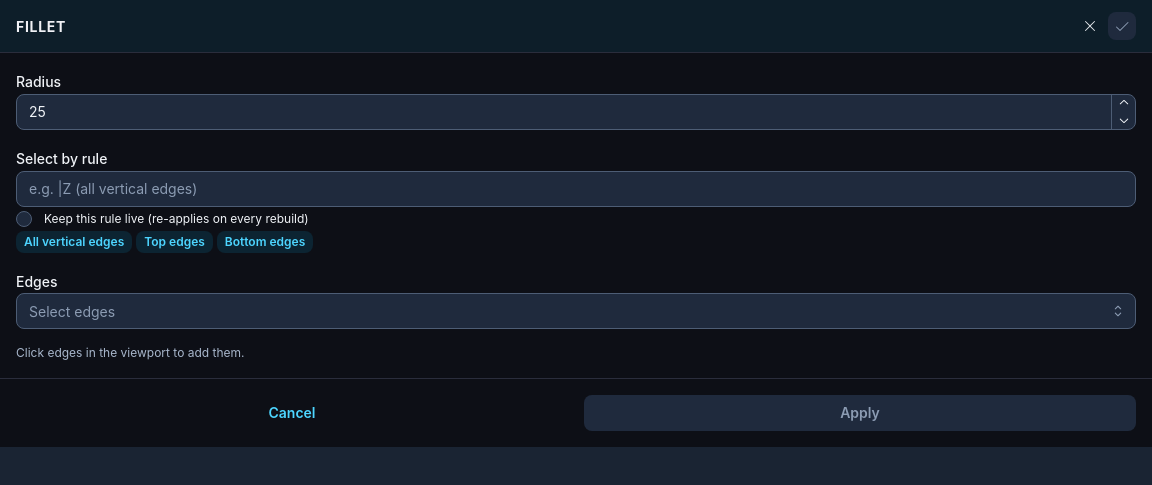
OperationPanel — selector-rule input (ROADMAP §9.1 Phase 3) › resolving a rule fills the edge selection
The width and height of the screenshot is (1152, 485).
Type "|Z" into the field with placeholder "e.g. |Z (all vertical edges)".
click(576, 189); type("|Z")  # box [16, 171, 1136, 207]
Then press Enter
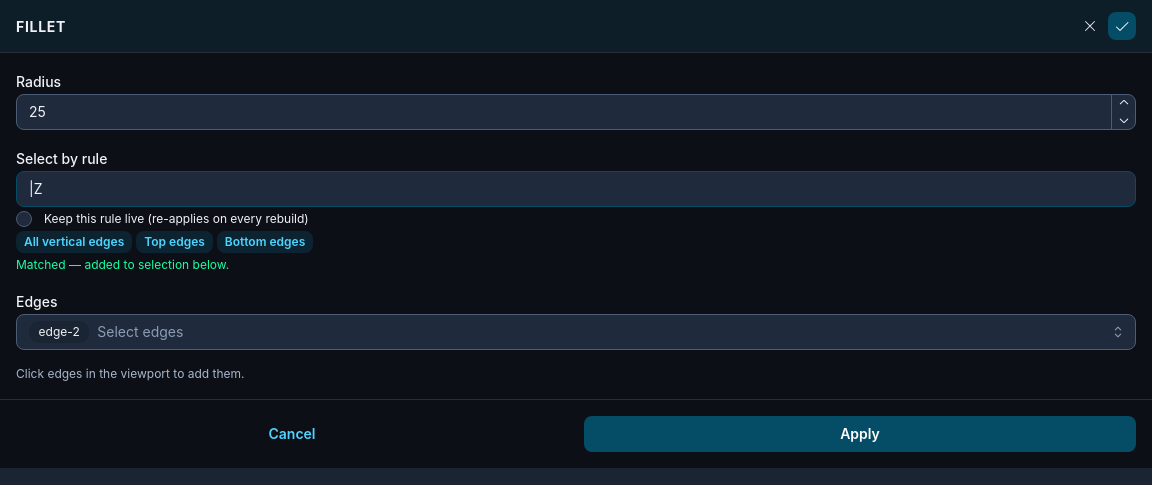
Check: the text "Matched — added to selection below." is shown, box [16, 257, 229, 272]
Check: the text "edge-2" is shown, box [39, 321, 80, 343]
